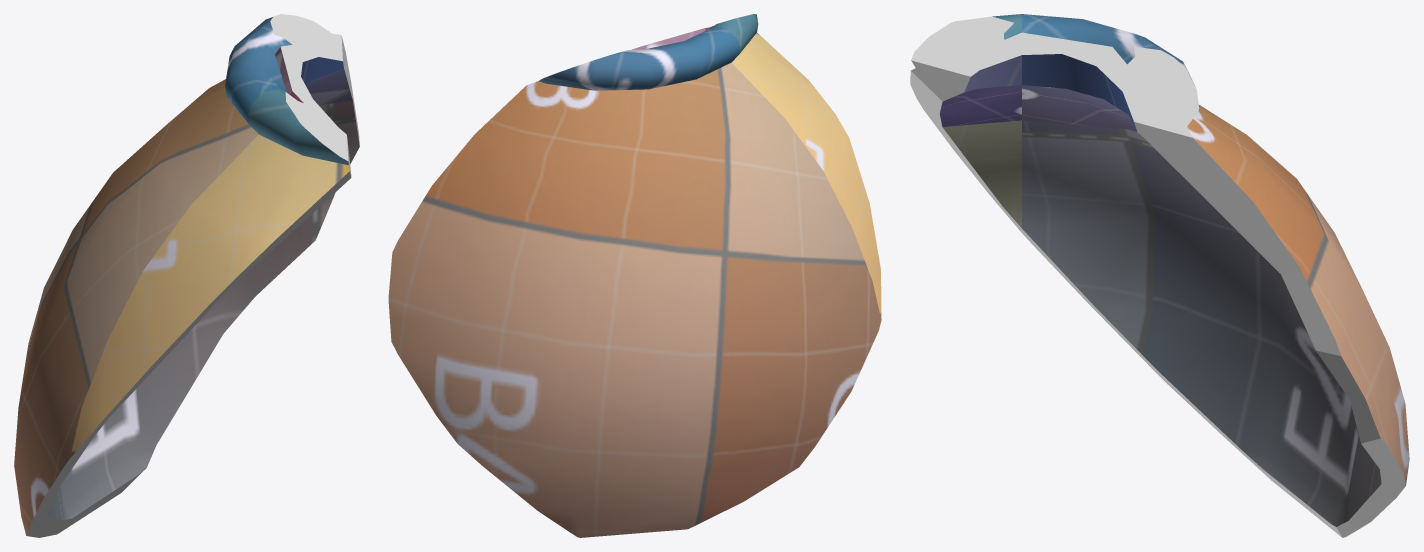
Rendered from LargeVase_SHAT_cell_007.fbx.
The picture shows the model from 3 angles, left to right: view 1: azimuth 30°, elevation 25°; view 2: azimuth 150°, elevation 25°; view 3: azimuth 270°, elevation 25°; orthographic projection. The views are drawn at different scales.
Visible parts, largest first — view 1: LargeVase_SHAT_cell_007; view 2: LargeVase_SHAT_cell_007; view 3: LargeVase_SHAT_cell_007.
Part boxes in pixels (left/top/right/bottom): LargeVase_SHAT_cell_007: left=14, top=14, right=359, bottom=537; LargeVase_SHAT_cell_007: left=388, top=14, right=881, bottom=537; LargeVase_SHAT_cell_007: left=910, top=14, right=1409, bottom=537.
Size of the model in its own units: 1.11 by 1.24 by 1.09.
2 materials, 1 textured.
